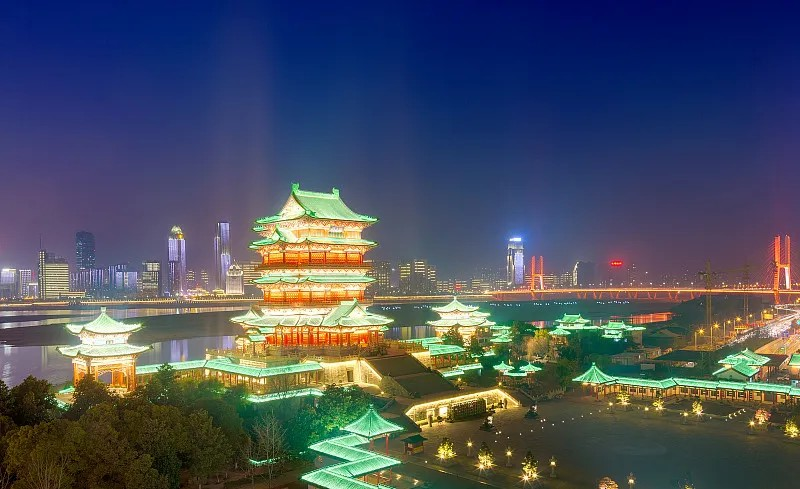Teng: (230, 182, 394, 348)
